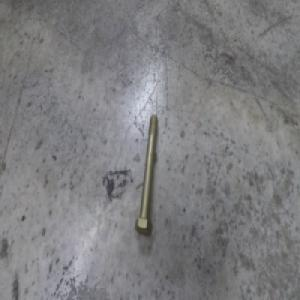Bolt: (134, 114, 156, 236)
